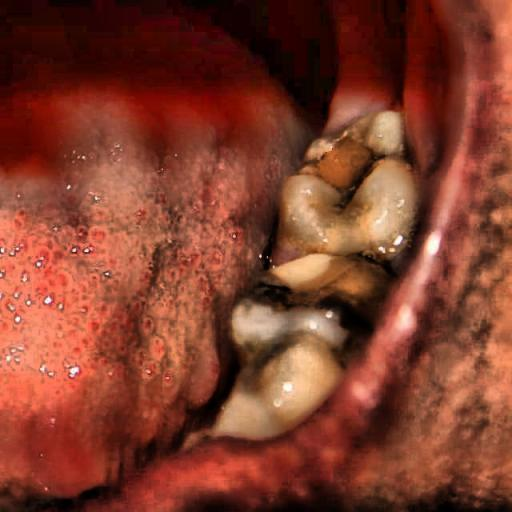Caries: (290, 110, 426, 250), (252, 258, 408, 355)
